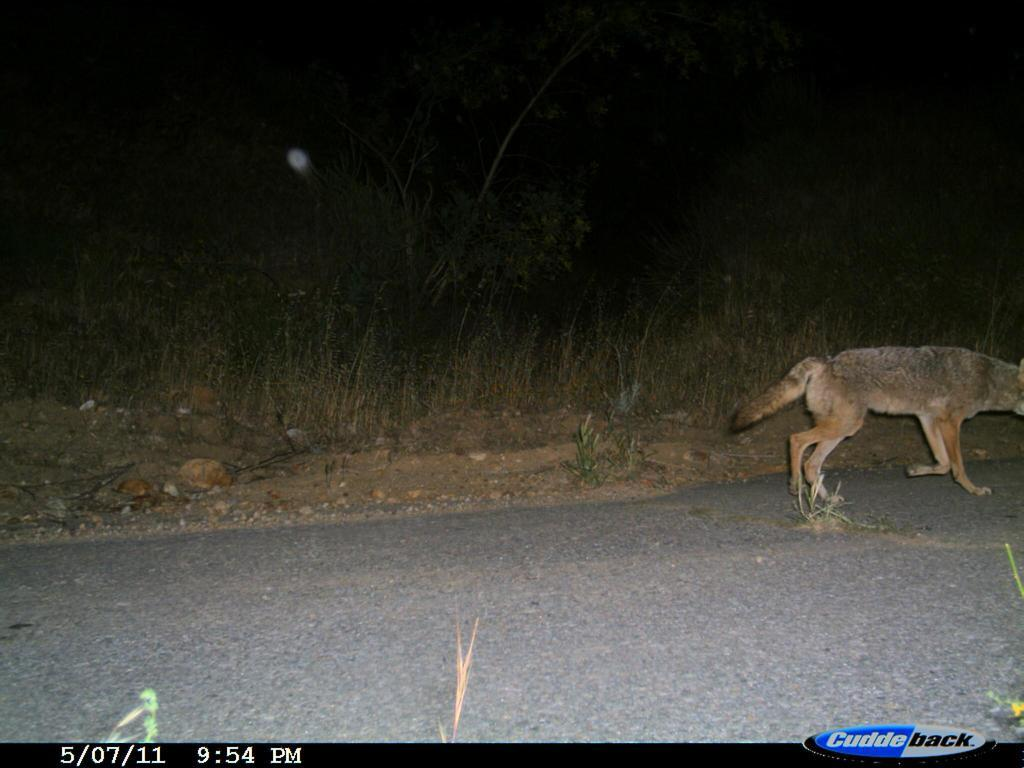coyote: (722, 337, 1017, 518)
